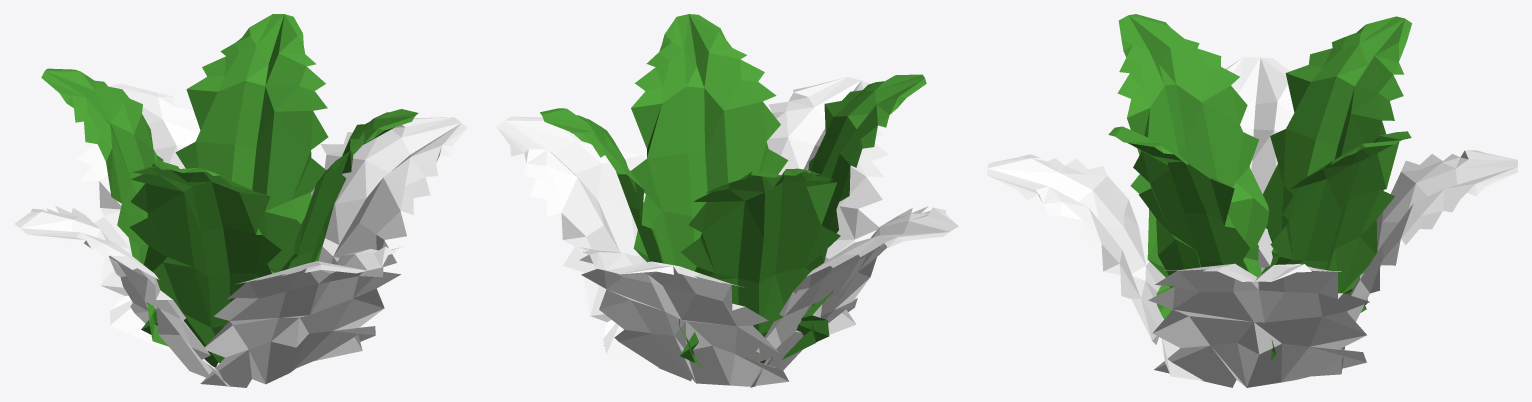
File: krumas.glb
3 views of the same model, side by side, from view 1: azimuth 30°, elevation 25°; view 2: azimuth 150°, elevation 25°; view 3: azimuth 270°, elevation 25° (orthographic). The views are drawn at different scales.
Visible parts, largest first — view 1: Krumas; view 2: Krumas; view 3: Krumas.
Boxes of the visible parts, x1,y1,x2,y2 form: Krumas: (15,14,467,387); Krumas: (496,14,958,387); Krumas: (987,14,1517,387).
Size of the model in its own units: 0.4593 by 0.274 by 0.4587.
